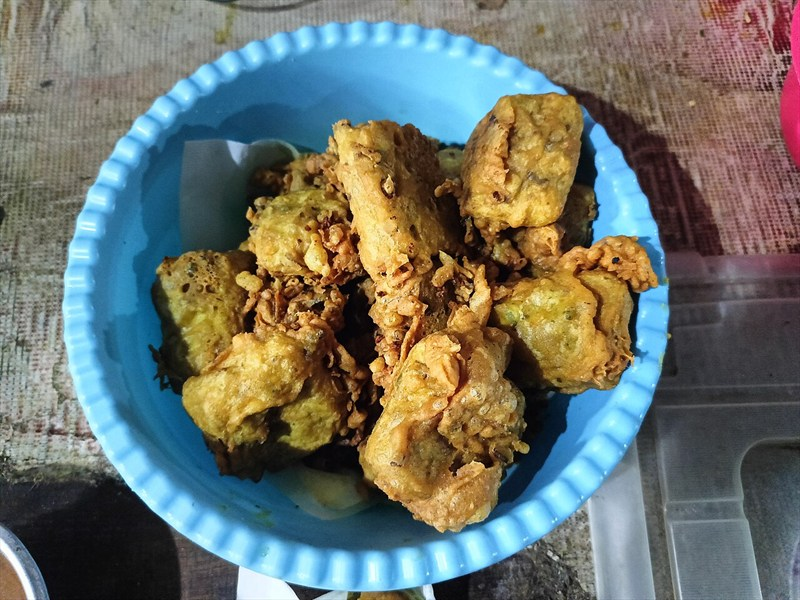Tempe Goreng: (82, 64, 668, 576)
